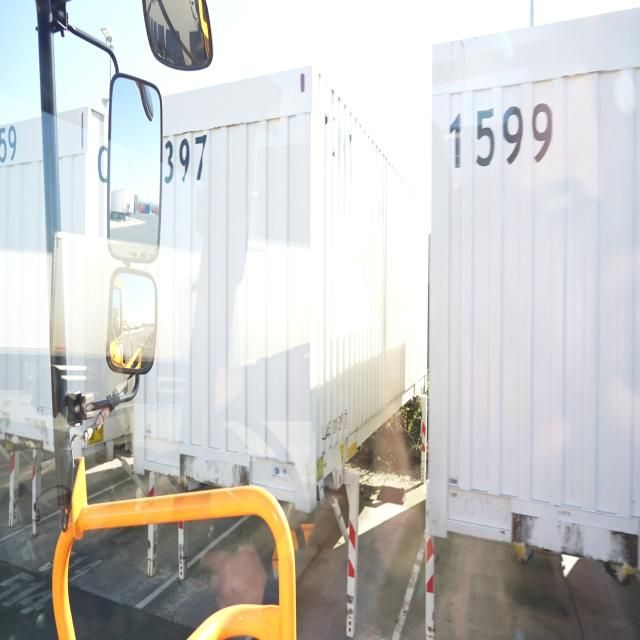Code: (444, 96, 560, 180)
